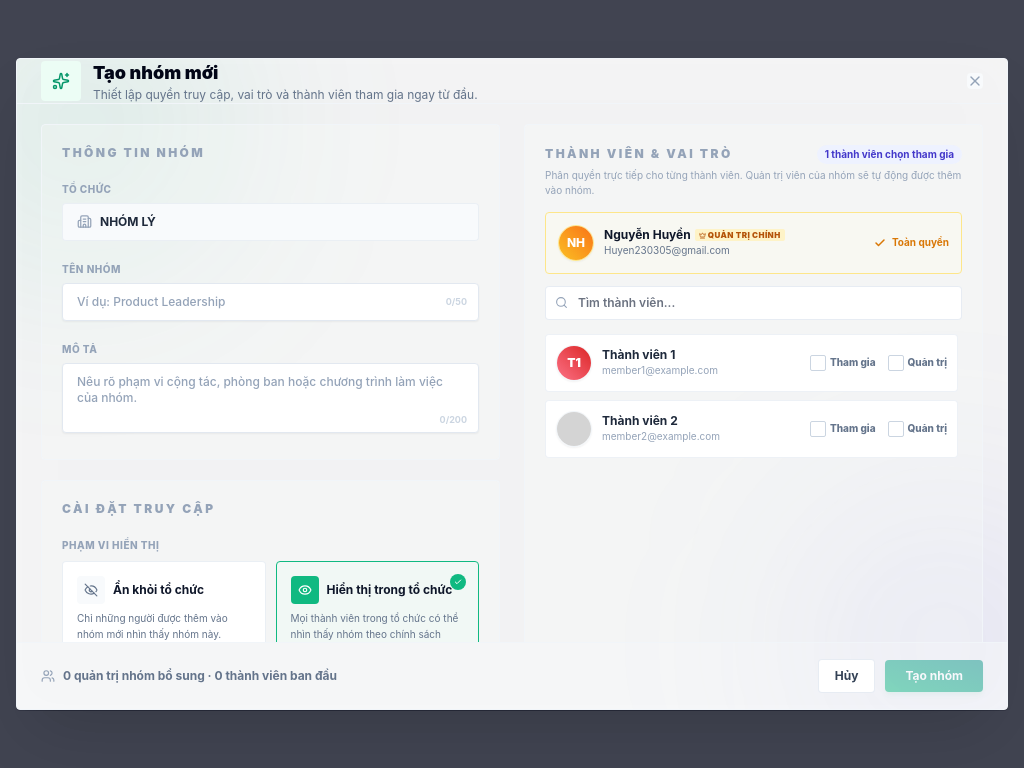
CreateGroupModal Component › shows a friendly error from backend
The width and height of the screenshot is (1024, 768).
Type "New Team" into the field with placeholder "Ví dụ: Product Leadership" at [270, 302], box [62,283,479,321]
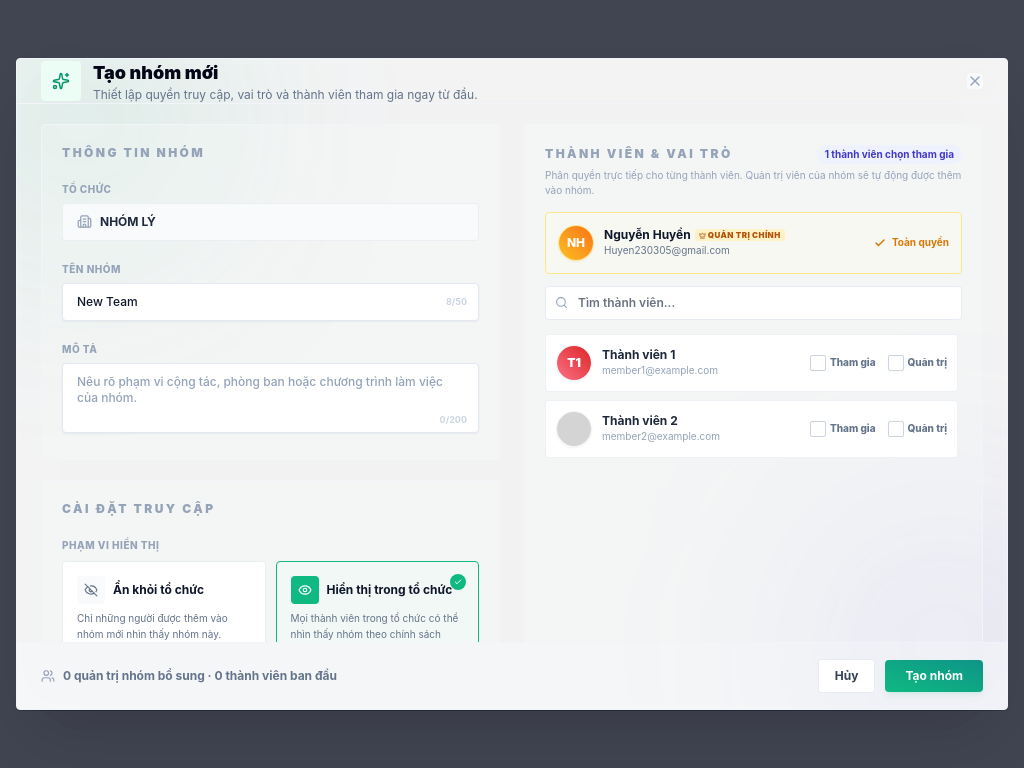
Click the button "Tạo nhóm" at [934, 676], box [885,660,983,692]
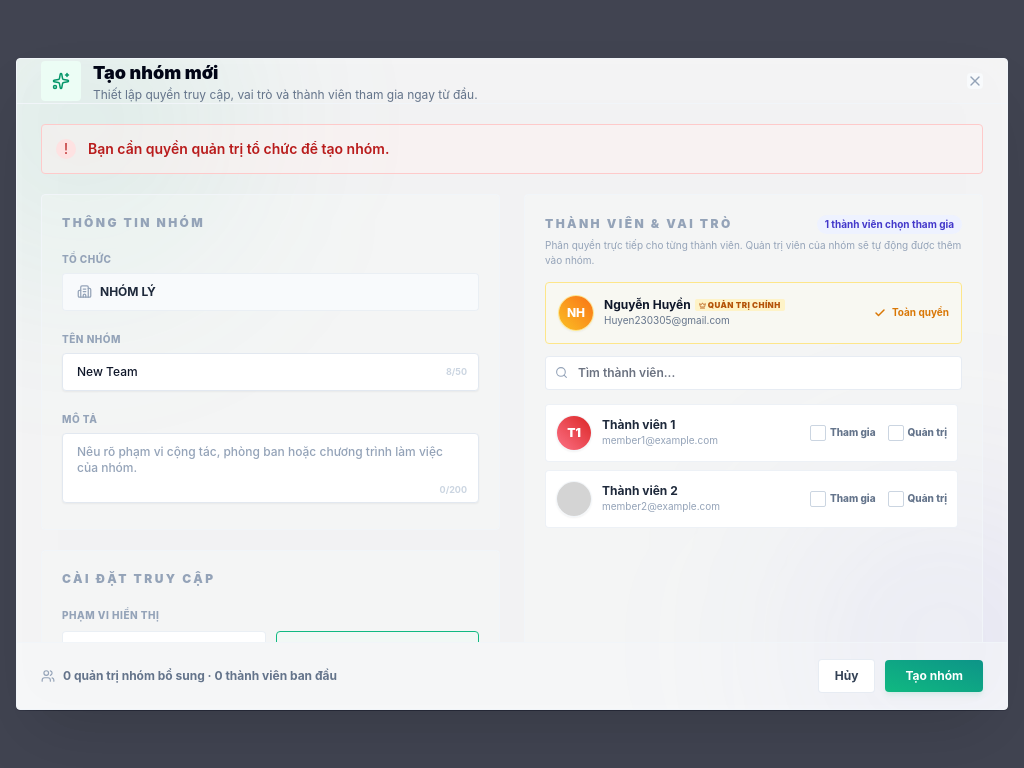
Now the text "Bạn cần quyền quản trị tổ chức để tạo nhóm." is shown, box [88,139,389,159]
